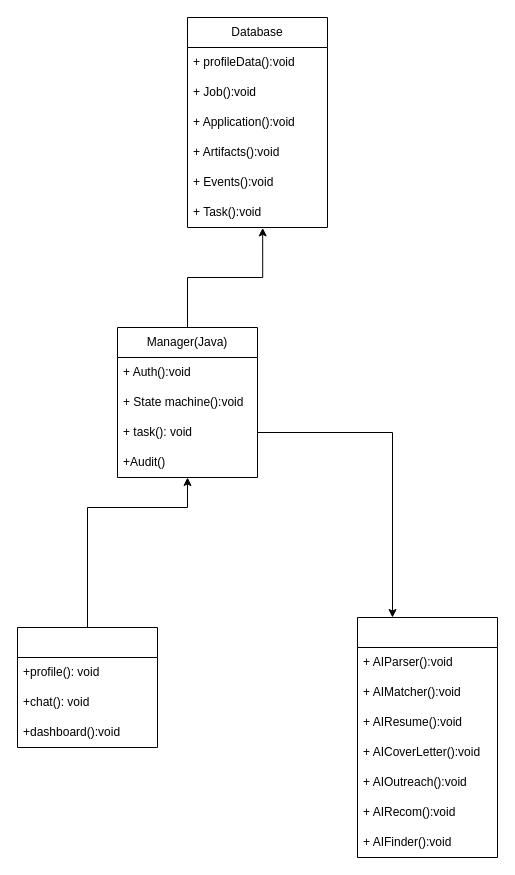
Image size: 515x875. Some labels were removed from this diagram. The shapes that lost their labels are listed below. From the top down, each one's box as (x1, y1, x2, y2) in pixels, then its label:
(16, 626, 158, 748): UI
(356, 616, 498, 858): AI Service
